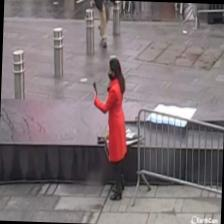person: (89, 57, 129, 200)
